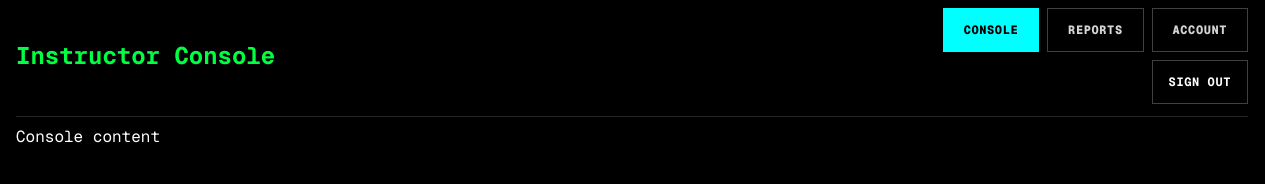
Test: InstructorLayout › shows a shared navigation error when sign out fails
The width and height of the screenshot is (1265, 184).
Click the button "Sign Out" at (1200, 82), box [1152, 60, 1248, 104]
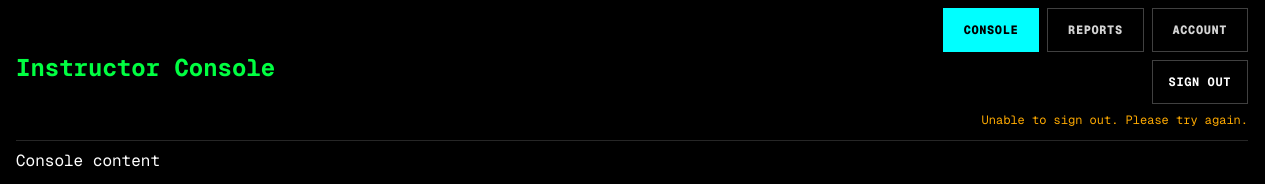
Expected: the message reads "Unable to sign out. Please try again.", [982, 112, 1248, 128]
